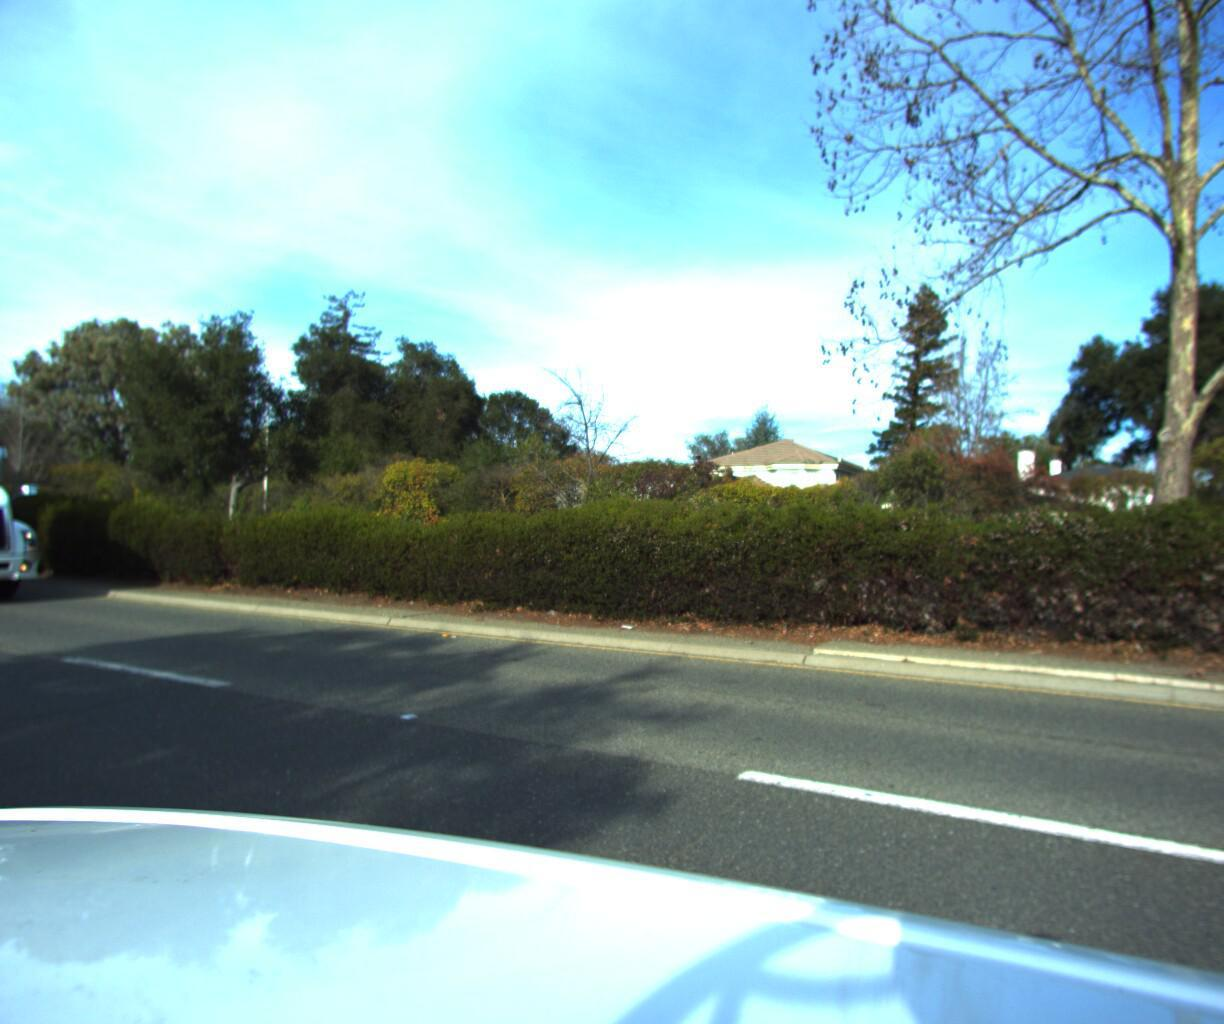truck: (0, 299, 77, 614)
